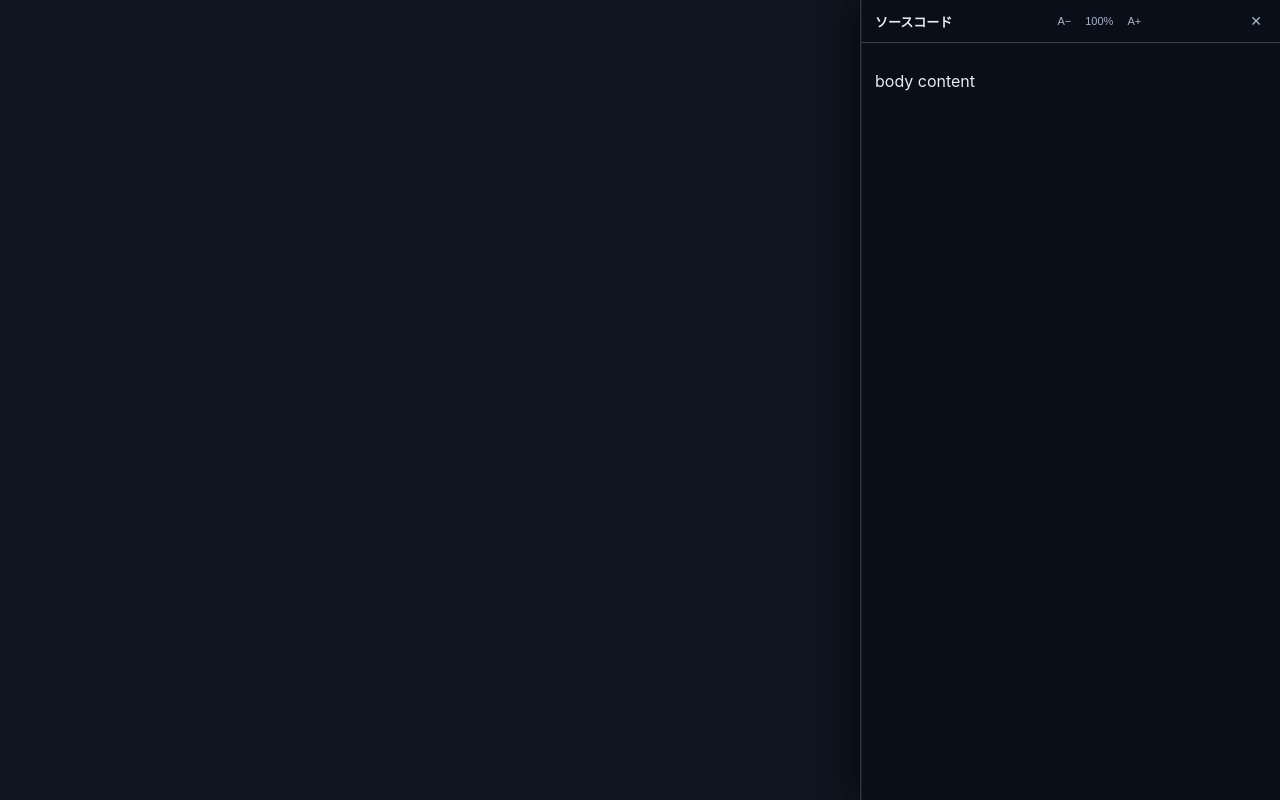
Test case: SidePanel font scale controls › decreases the scale and persists it
Click the button with test id "side-panel-font-smaller": (1064, 21) [1052,12,1077,30]
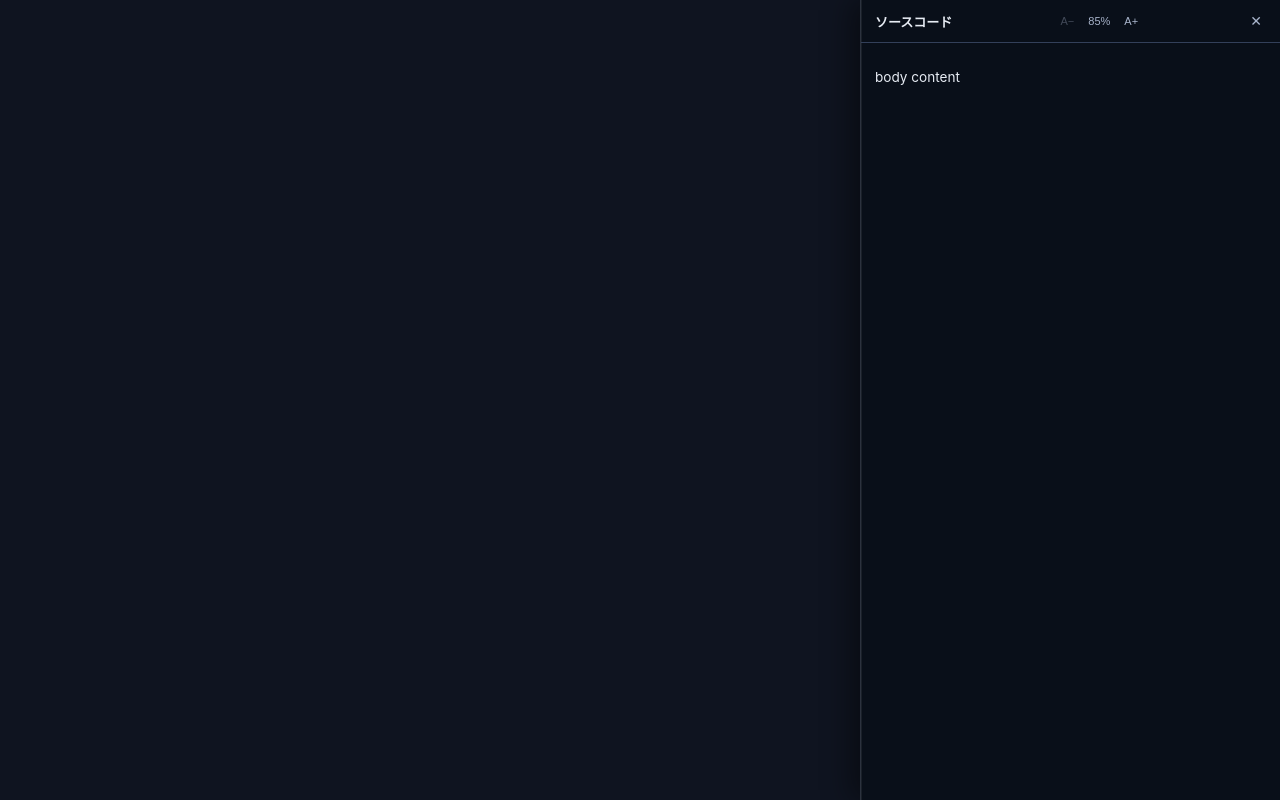
Check: the button with test id "side-panel-font-reset" reads "85%", box [1082,12,1116,30]
